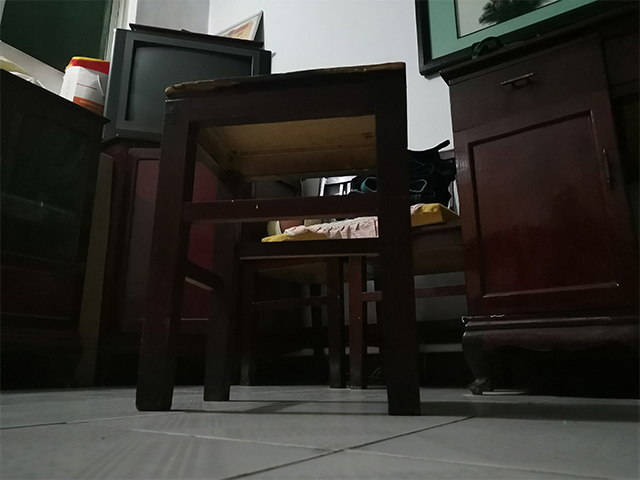cabinet: (436, 3, 640, 398), (1, 62, 112, 390)
stool: (133, 60, 424, 417)
